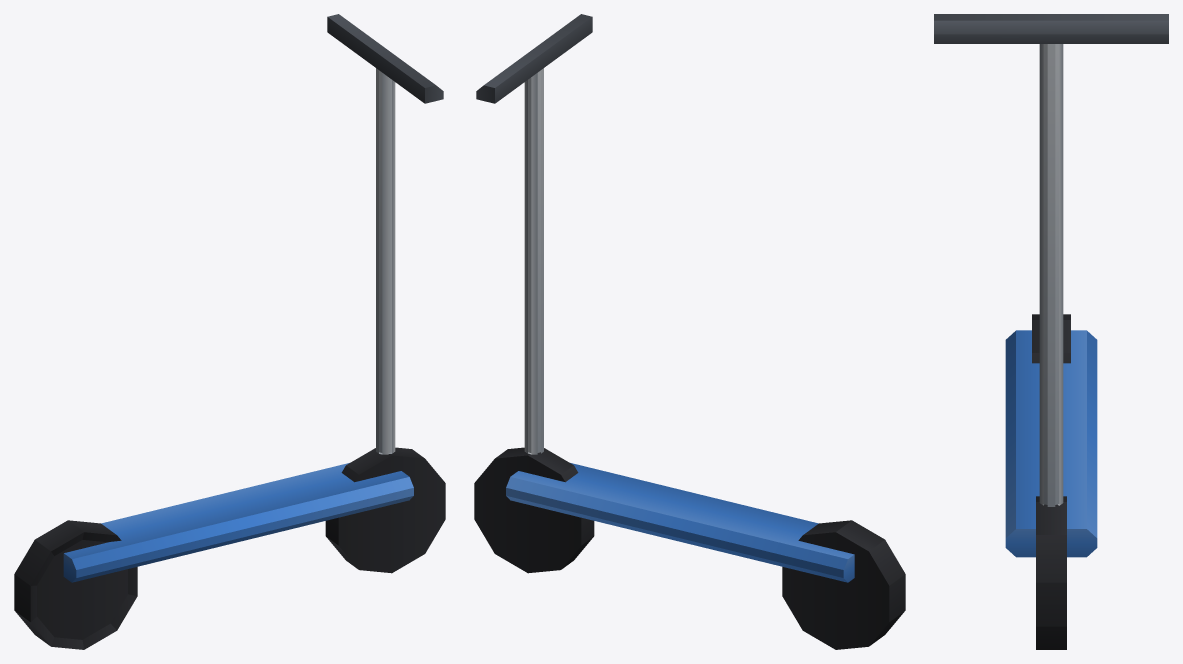
File: dt_e_scooter.fbx
3 renders of one model, left to right at view 1: azimuth 30°, elevation 25°; view 2: azimuth 150°, elevation 25°; view 3: azimuth 270°, elevation 25°, orthographic. The views are drawn at different scales.
Visible parts, largest first — view 1: dt_e_scooter; view 2: dt_e_scooter; view 3: dt_e_scooter.
Boxes of the visible parts, box(x1,y1,x2,y2) form: dt_e_scooter: box(14, 14, 445, 649); dt_e_scooter: box(474, 14, 905, 649); dt_e_scooter: box(934, 14, 1168, 649).
Bounding box in the file's own units: 320 × 380 × 130.
